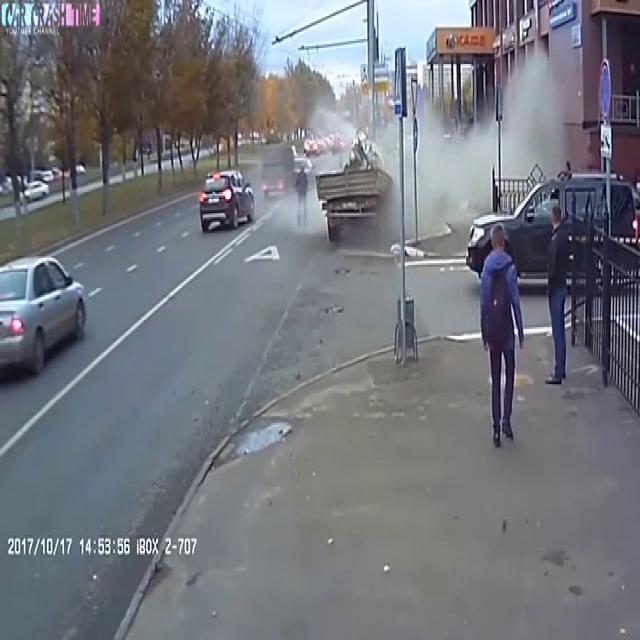multiple_accident: (322, 102, 482, 268), (0, 235, 131, 433)
